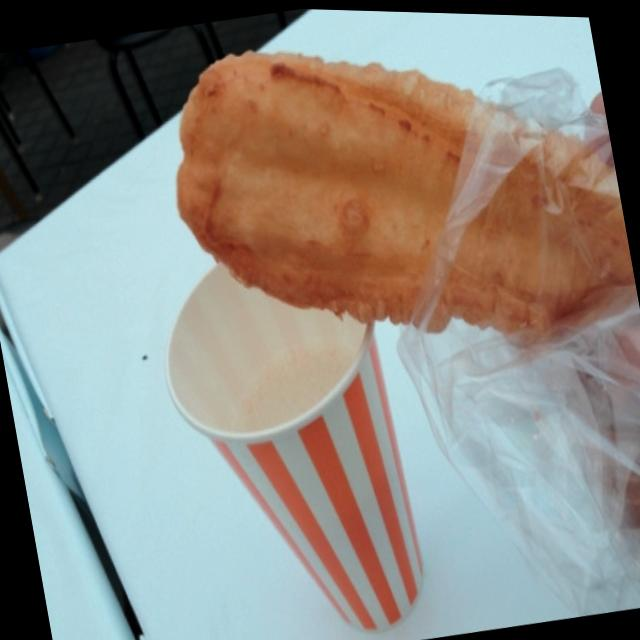炸货点心: (95, 2, 640, 424)
